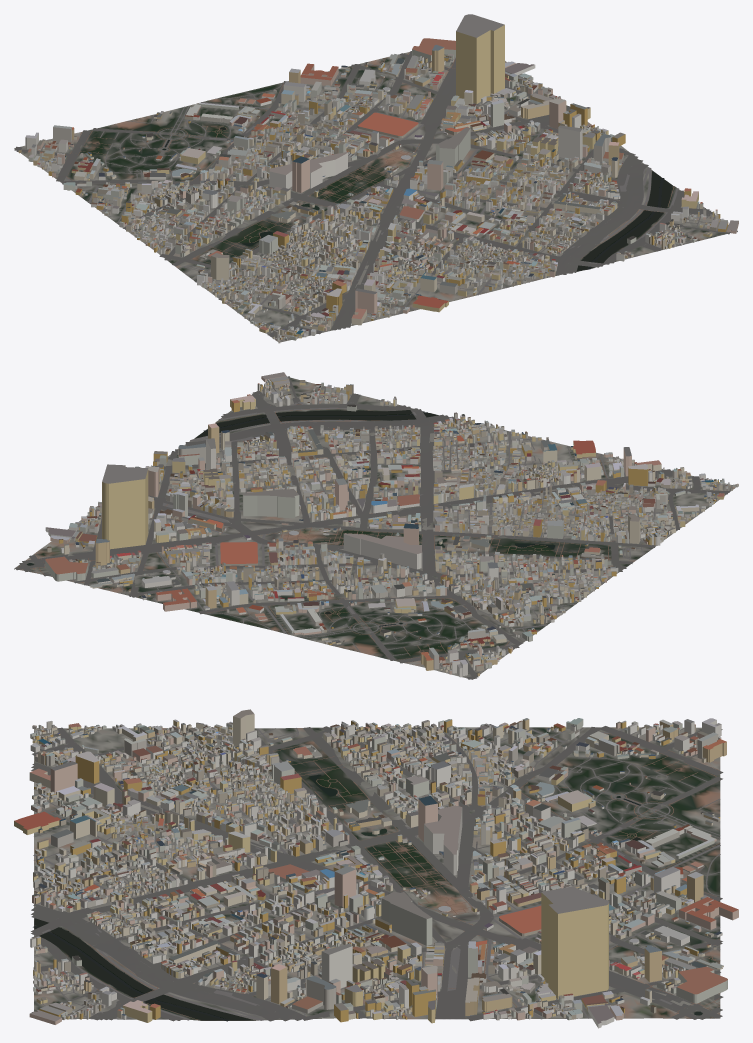
3 renders of one model, top to bottom at view 1: azimuth 30°, elevation 25°; view 2: azimuth 150°, elevation 25°; view 3: azimuth 270°, elevation 25°, orthographic. The views are drawn at different scales.
Visible parts, largest first — view 1: buildings, ground, roads, water; view 2: buildings, ground, roads, water; view 3: buildings, ground, roads, water.
Boxes of the visible parts, box(x1,y1,x2,y2) form: buildings: box(18, 14, 738, 343); ground: box(14, 52, 737, 342); roads: box(14, 51, 737, 341); water: box(96, 127, 672, 271); buildings: box(45, 372, 738, 677); ground: box(14, 377, 737, 679); roads: box(15, 376, 732, 679); water: box(27, 410, 555, 651); buildings: box(14, 709, 738, 1028); ground: box(34, 727, 720, 1020); roads: box(31, 726, 723, 1021); water: box(33, 769, 702, 1021).
Size of the model in its own units: 1463 by 201 by 1480.
